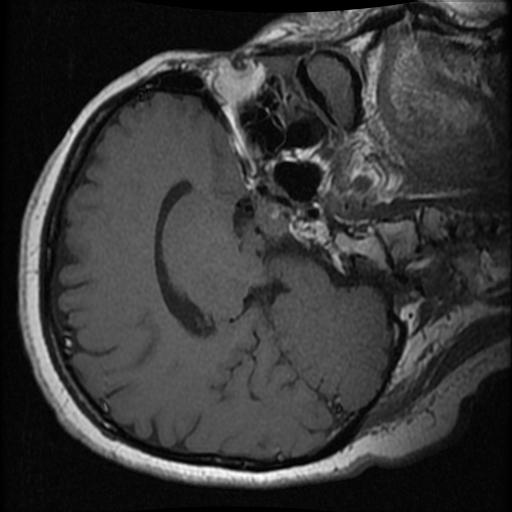pituitary tumour: (252, 192, 288, 243)
